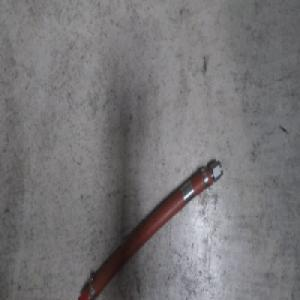Hose: (76, 156, 223, 300)
